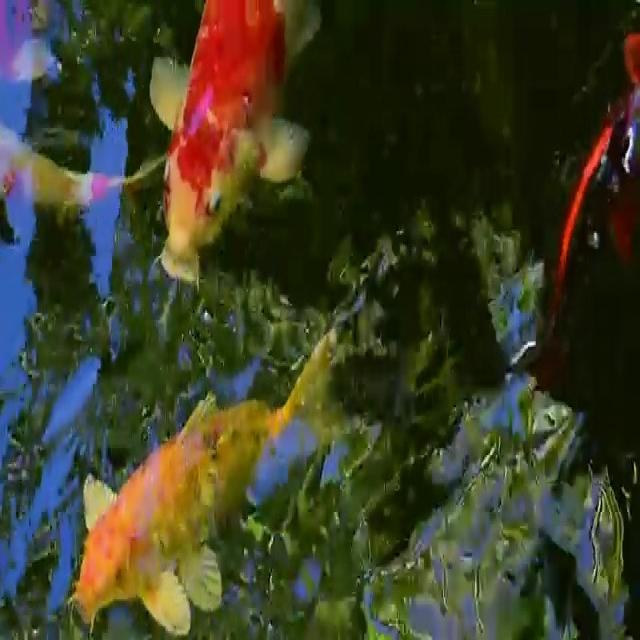fish: (50, 330, 397, 633), (136, 0, 330, 287)
